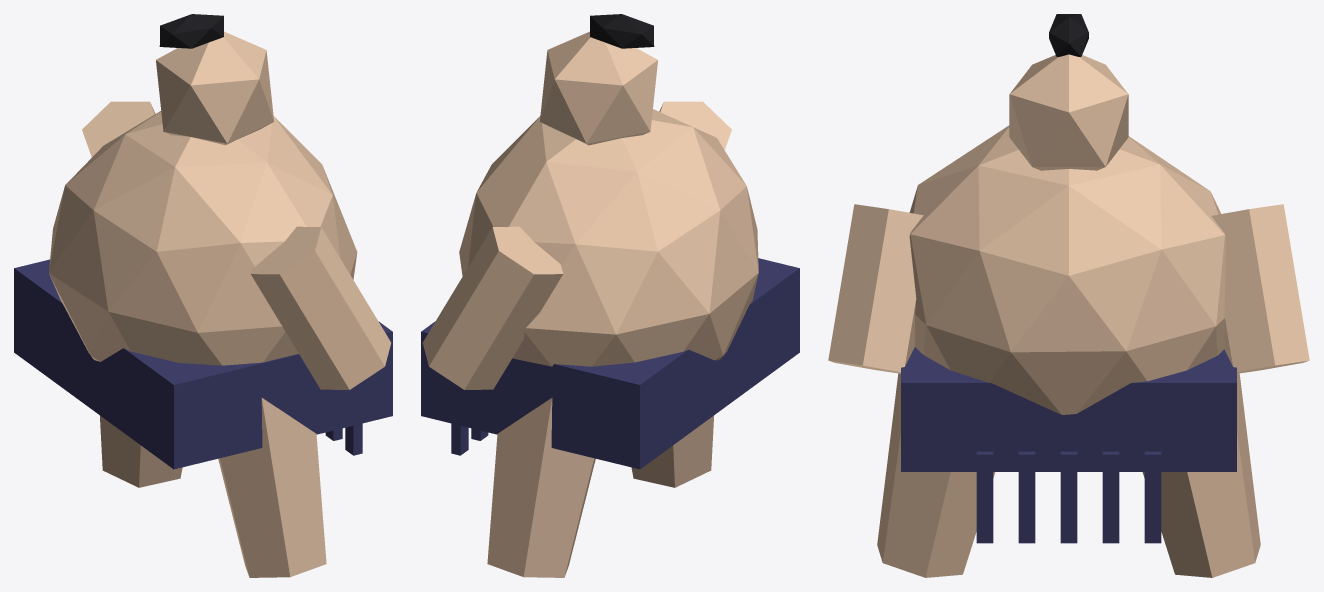
Rendered from sumo.glb.
The picture shows the model from 3 angles, left to right: view 1: azimuth 30°, elevation 25°; view 2: azimuth 150°, elevation 25°; view 3: azimuth 270°, elevation 25°; orthographic projection. The views are drawn at different scales.
Visible parts, largest first — view 1: Kropp, BenH, BenV; view 2: Kropp, BenV, BenH; view 3: Kropp, BenH, BenV.
Part boxes in pixels (x1,y1,x2,y2): Kropp: (14, 14, 392, 469); BenH: (218, 398, 326, 577); BenV: (100, 415, 182, 487); Kropp: (421, 14, 799, 469); BenV: (487, 398, 595, 577); BenH: (631, 415, 713, 487); Kropp: (828, 14, 1309, 543); BenH: (877, 373, 995, 577); BenV: (1142, 373, 1260, 577).
Bounding box in the file's own units: 1.1 × 2.13 × 1.72.
